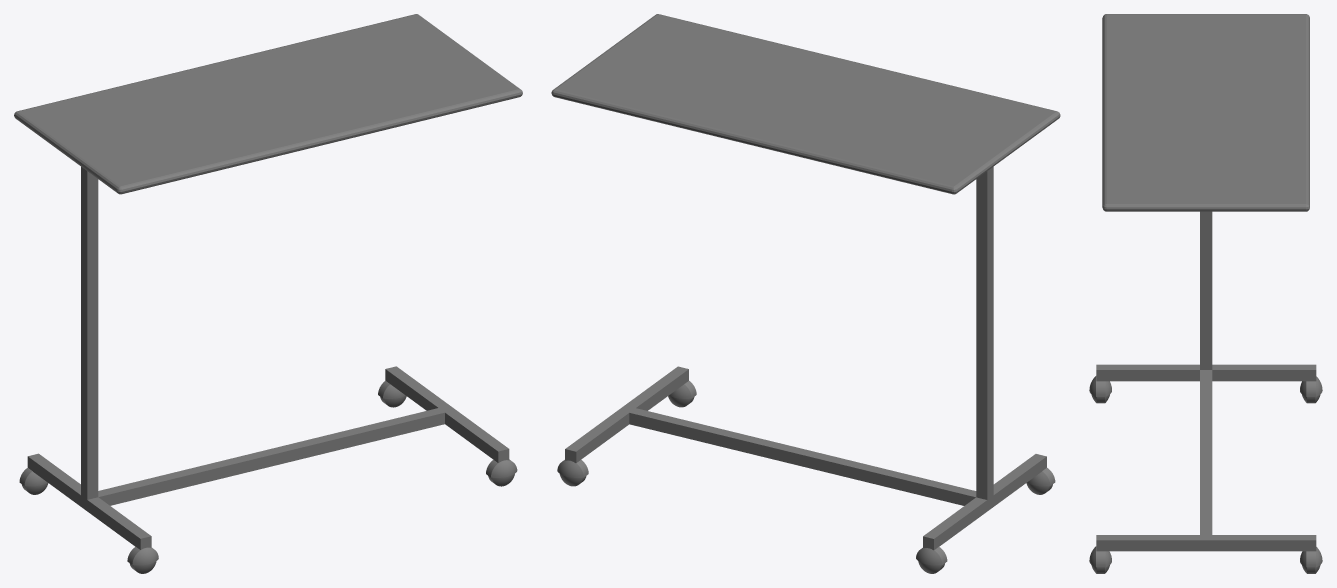
File: HospitalTable.fbx
The picture shows the model from 3 angles, left to right: view 1: azimuth 30°, elevation 25°; view 2: azimuth 150°, elevation 25°; view 3: azimuth 270°, elevation 25°; orthographic projection. The views are drawn at different scales.
Parts seen in each view (by area): view 1: table, Cube_1; view 2: table, Cube_1; view 3: table, Cube_1, wheel_5, wheel_3_2, wheel_2, wheel.
Boxes of the visible parts, x1,y1,x2,y2 form: table: (14,14,522,194); Cube_1: (27,167,509,549); table: (551,14,1060,194); Cube_1: (565,166,1046,550); table: (1102,14,1309,211); Cube_1: (1096,211,1316,551); wheel_5: (1089,546,1111,567); wheel_3_2: (1300,547,1322,567); wheel_2: (1089,376,1111,396); wheel: (1300,376,1322,396).
Bounding box in the file's own units: 110 × 101 × 56.16.
Materials: 5 (5 with a texture image).
